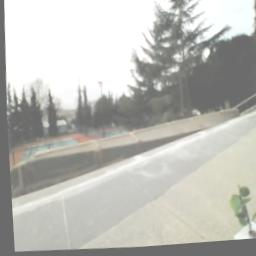herb: (226, 187, 256, 236)
